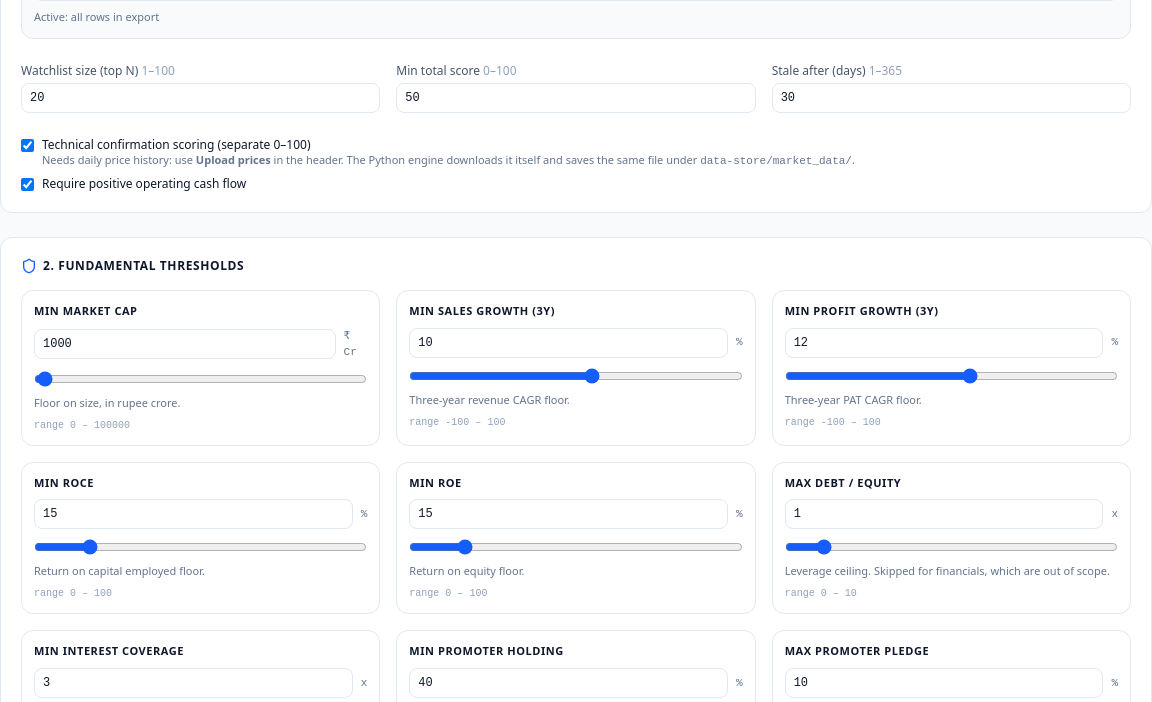
Config panel inputs › lets a number box be cleared and take a negative value
(page scrolled)
Clear the number field labelled "Min sales growth (3Y)": (569,343) [409,328,728,358]
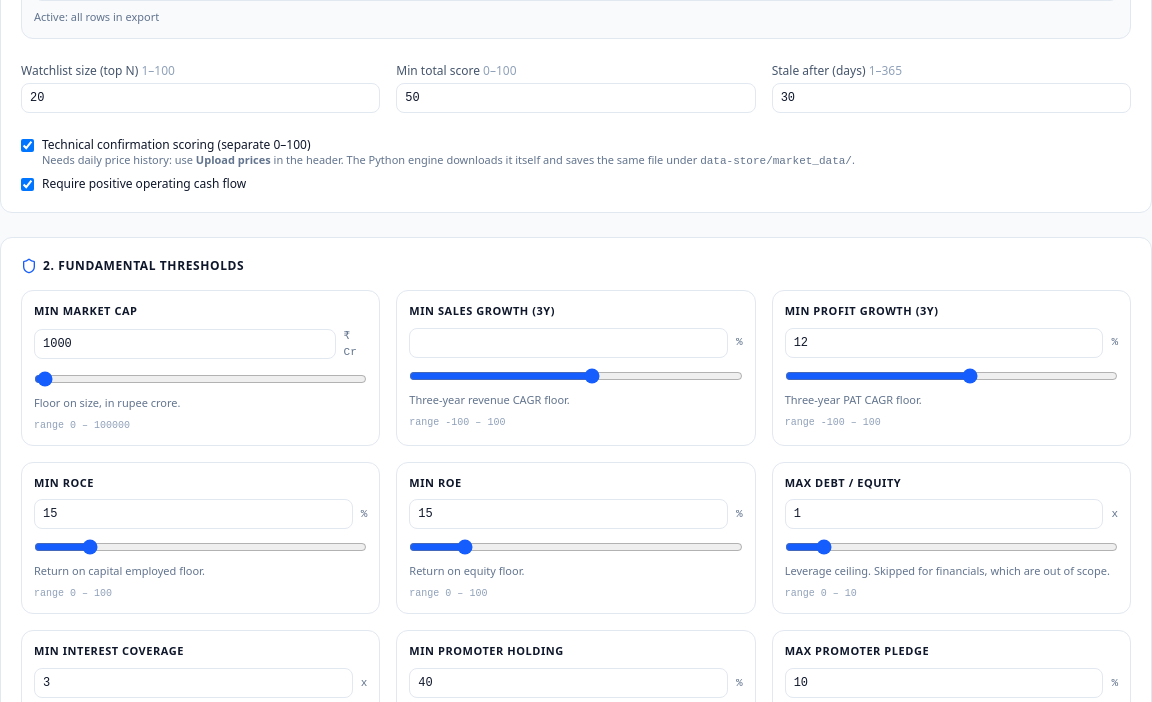
In the number field labelled "Min sales growth (3Y)": (569,343) [409,328,728,358], type "-5"
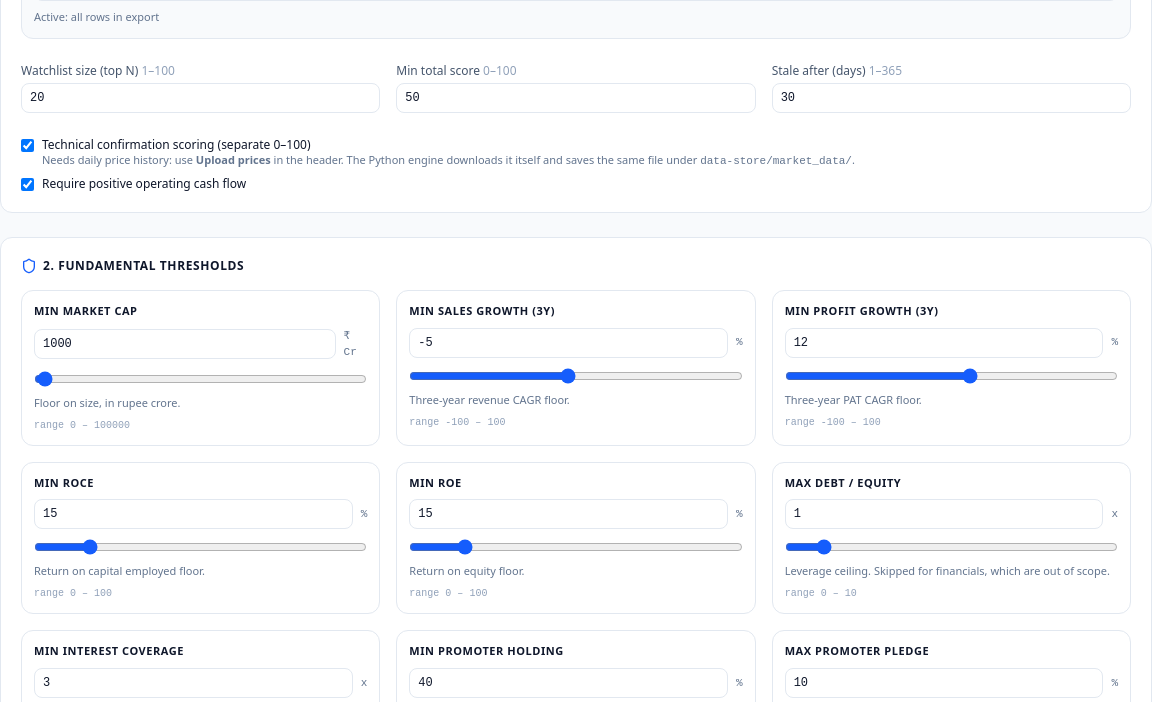
Replace the text in the number field labelled "Min sales growth (3Y)" with "-500": (569,343) [409,328,728,358]
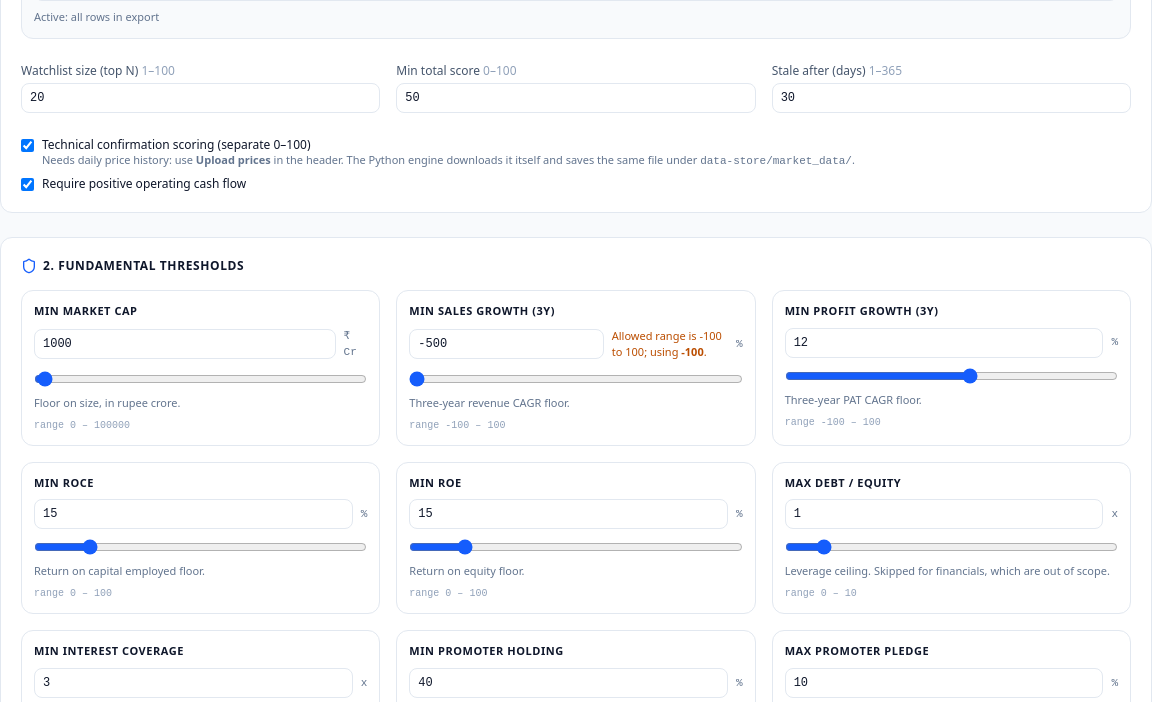
Leave the number field labelled "Min sales growth (3Y)", box [409,329,604,359]
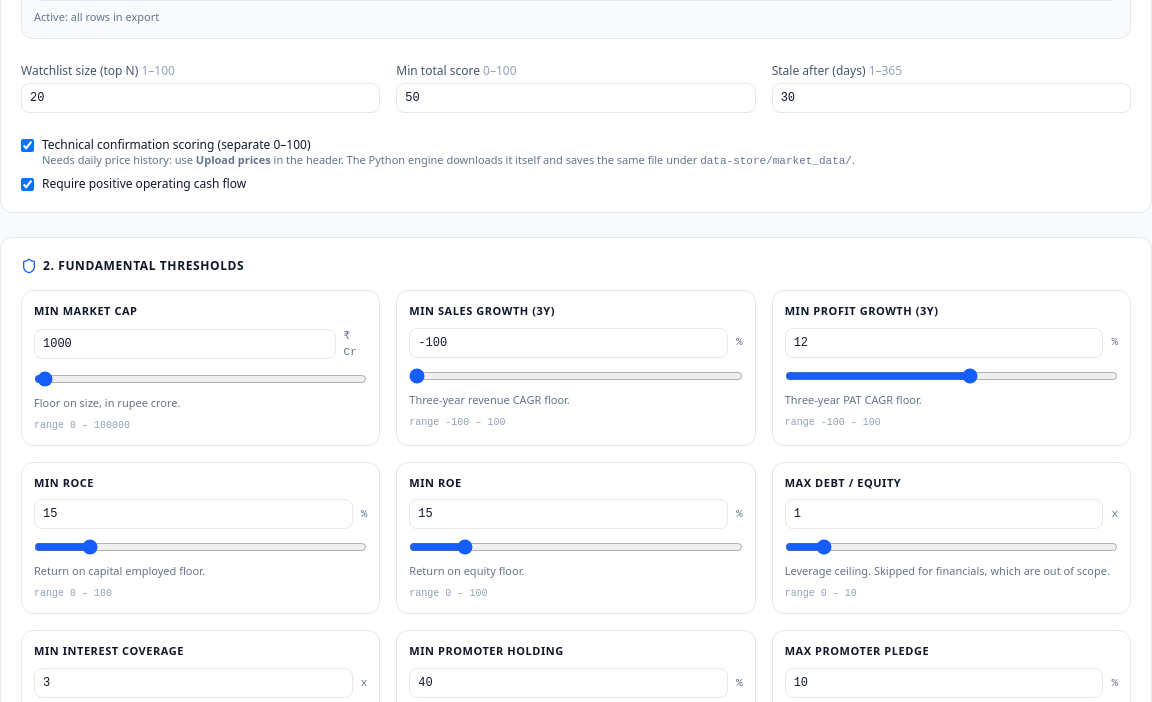
Expected: the number field labelled "Min sales growth (3Y)" holds "-100", [409,328,728,358]
